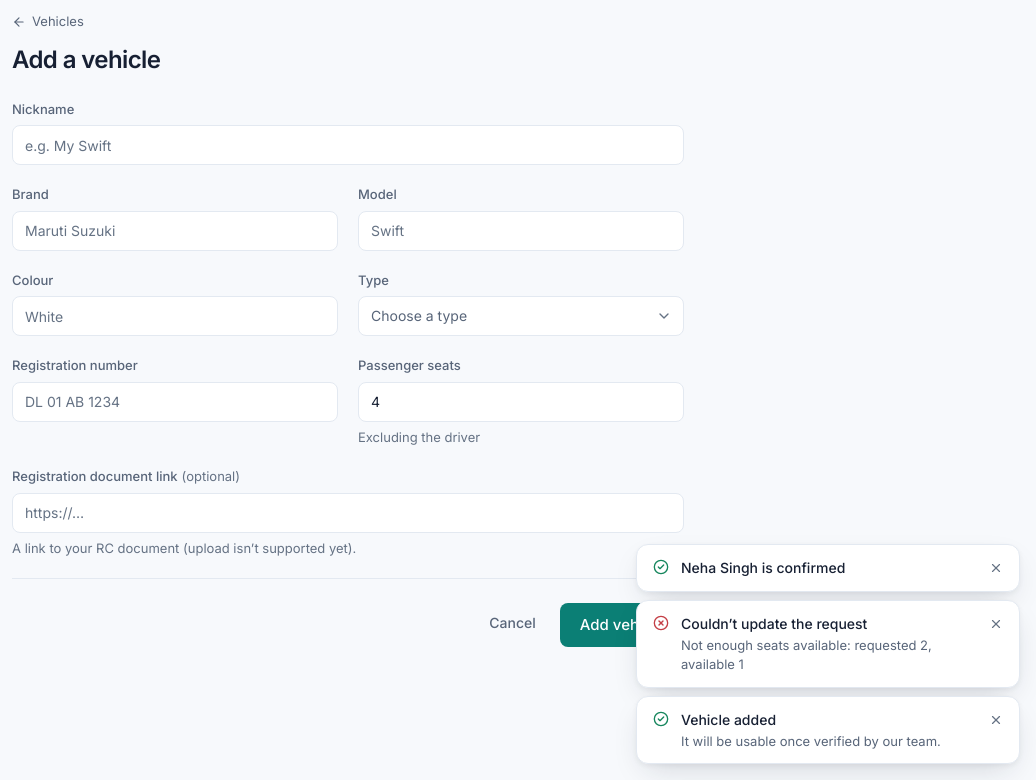
Test: vehicle management › shows duplicate registration numbers on the field
Type "Car" into the field labelled "Nickname" at (348, 145), box [12,125,684,165]
Type "B" into the field labelled "Brand" at (175, 230), box [12,210,338,250]
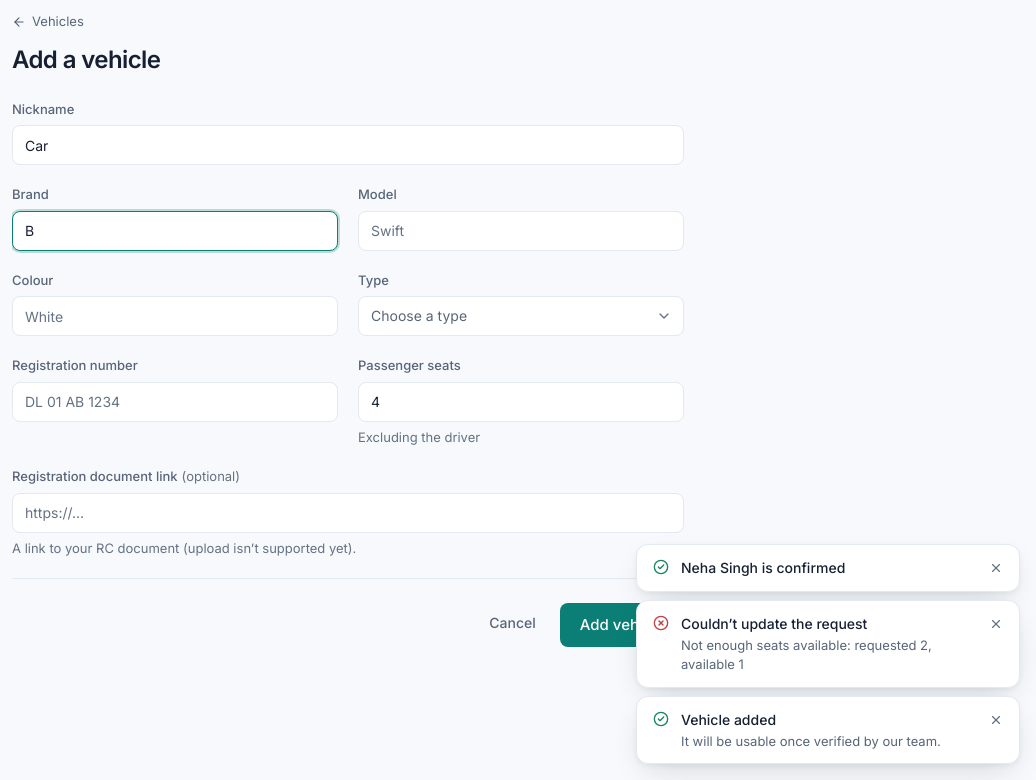
Type "M" into the field labelled "Model" at (521, 230), box [358,210,684,250]
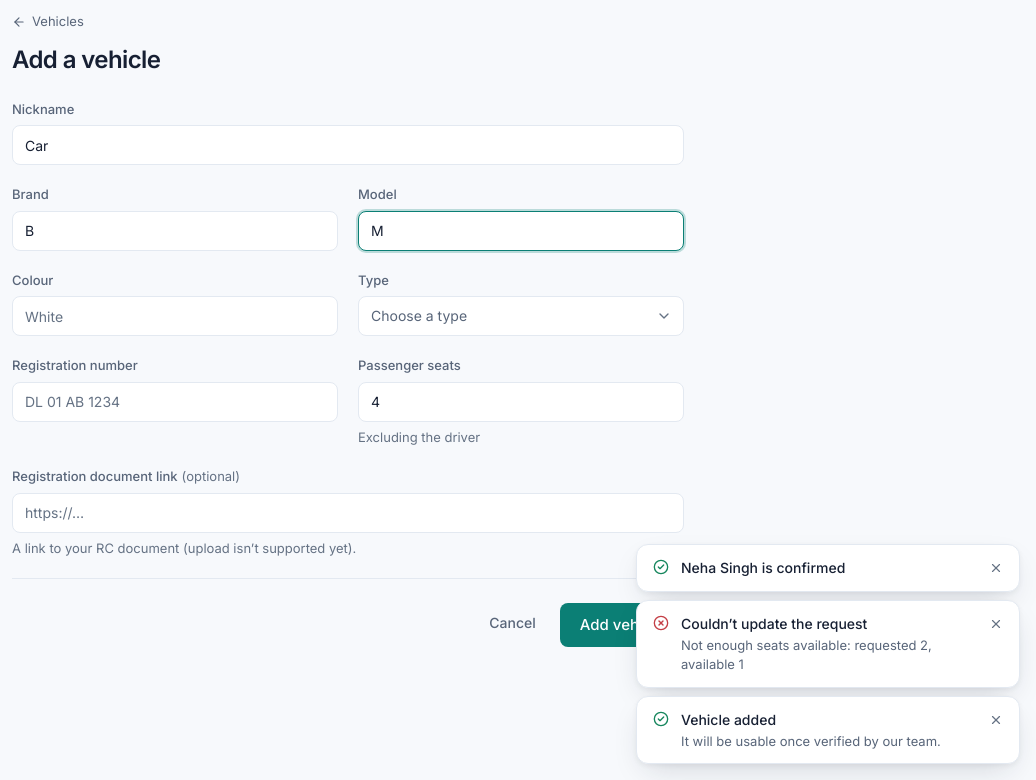
Type "C" into the field labelled "Colour" at (175, 316), box [12,296,338,336]
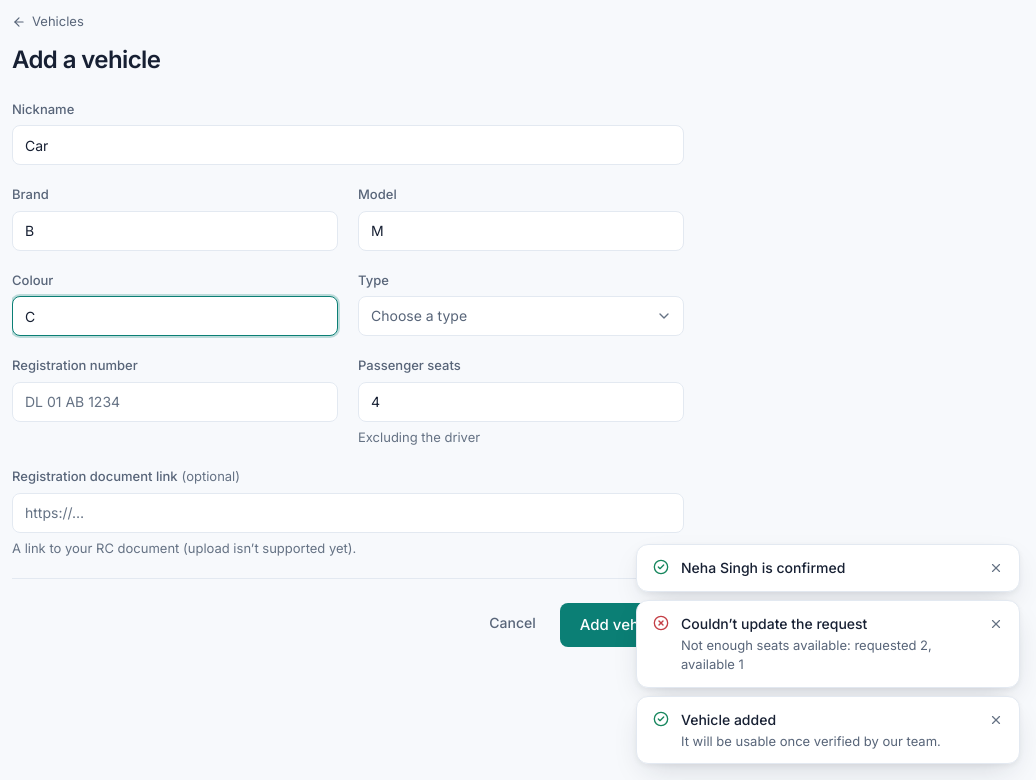
Select "Sedan" in the dropdown labelled "Type" at (521, 316), box [358,296,684,336]
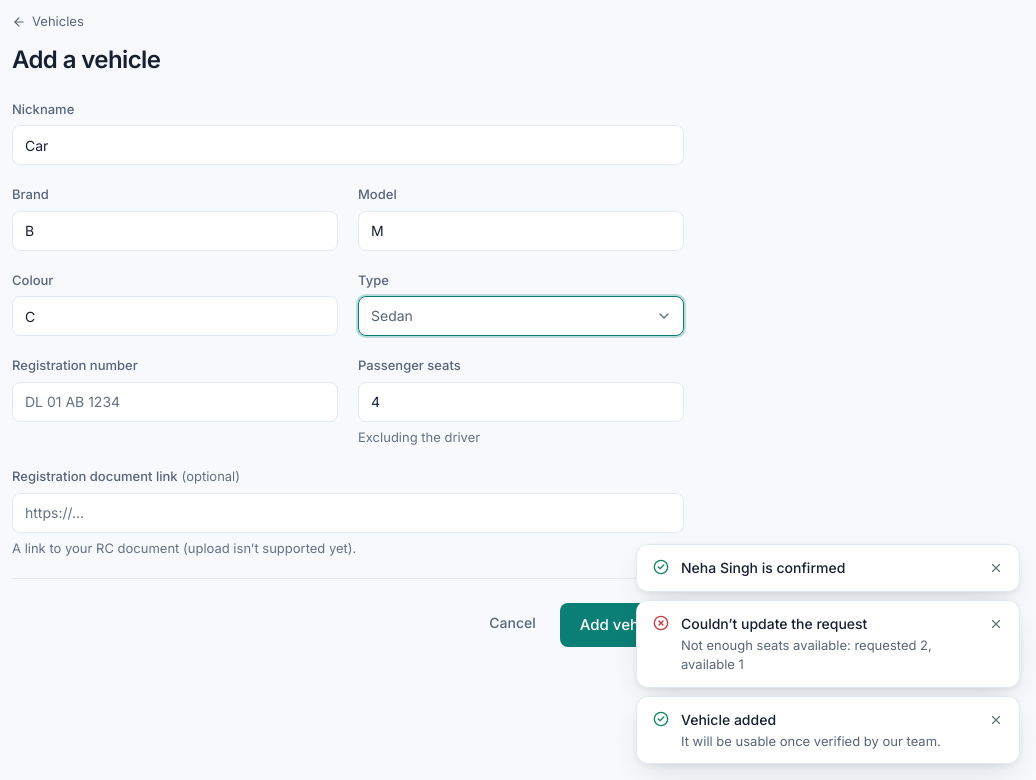
Type "DL01AB1234" into the field labelled "Registration number" at (175, 402), box [12,382,338,422]
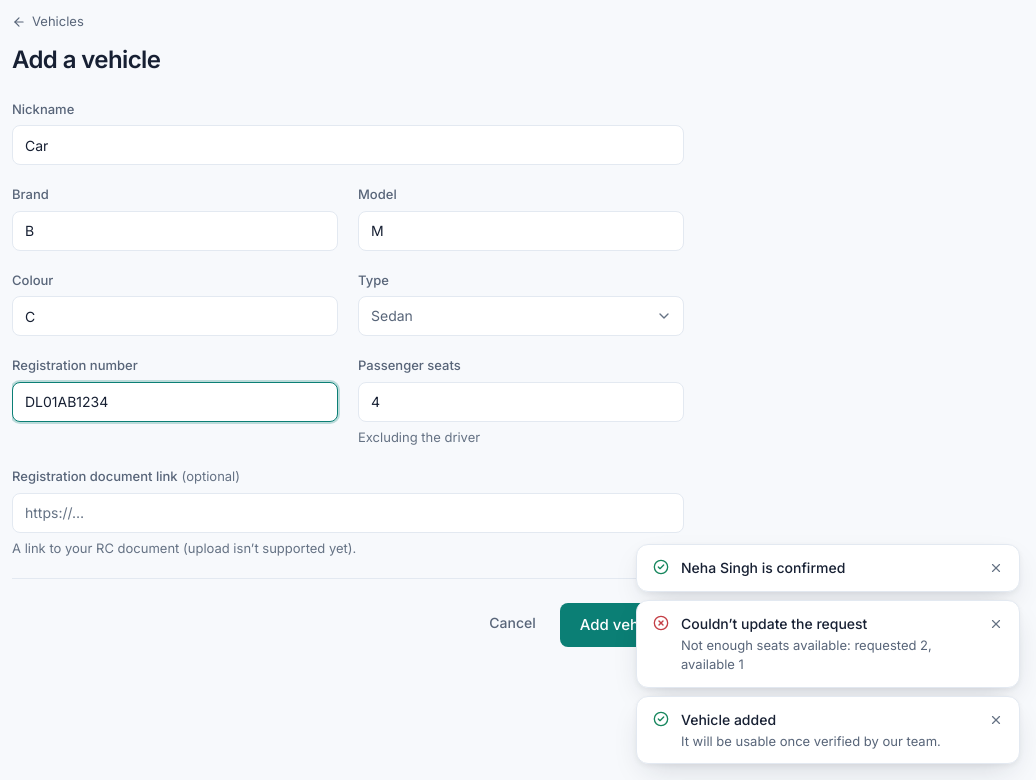
Click the button "Add vehicle" at (622, 625), box [560,603,684,647]
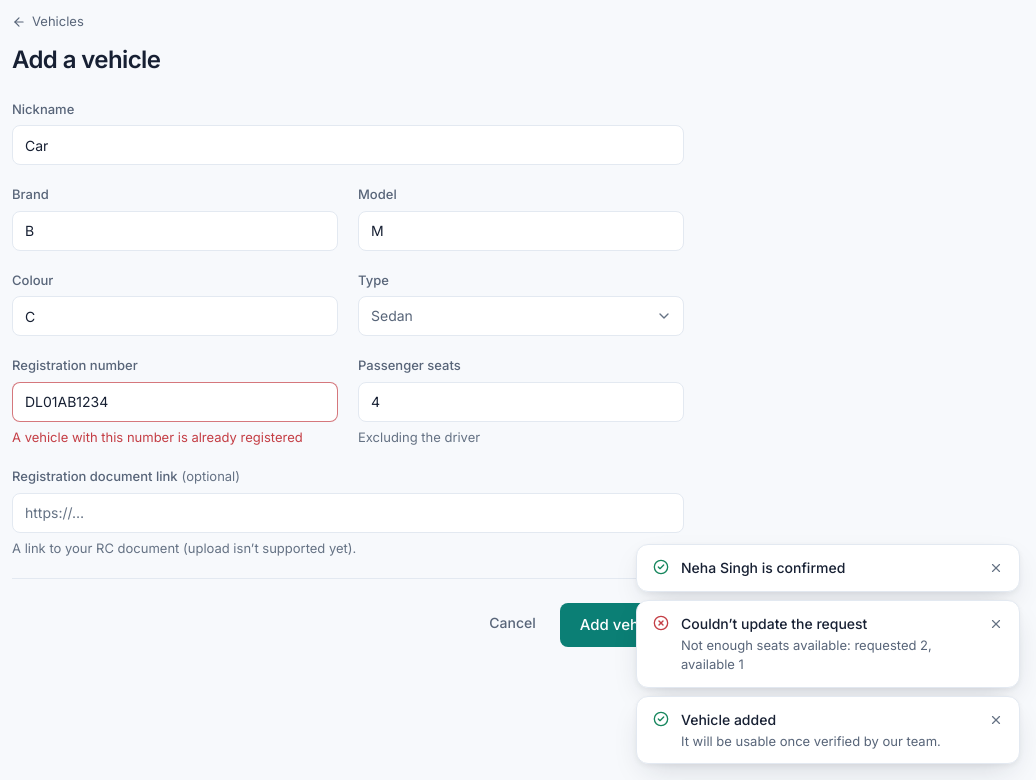
expect the text "A vehicle with this number is already registered" is shown: met, box [12,428,338,447]
